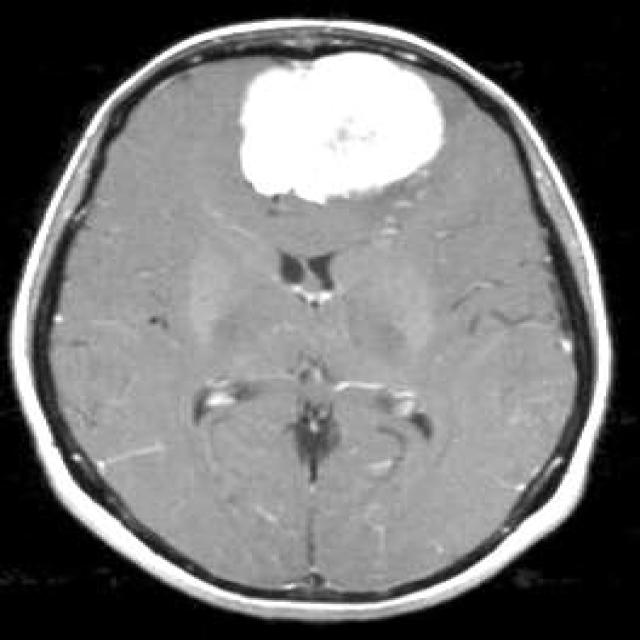Tumor-Cell: (217, 37, 443, 210)
